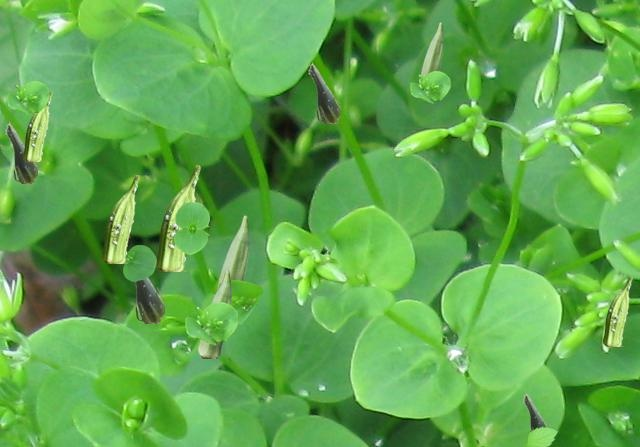okra: (156, 165, 199, 270), (102, 175, 138, 262), (198, 270, 230, 357), (129, 249, 163, 322), (216, 215, 248, 290), (603, 276, 631, 345), (23, 91, 51, 160), (5, 122, 36, 182), (308, 62, 339, 122), (419, 22, 442, 80), (523, 393, 547, 431)
